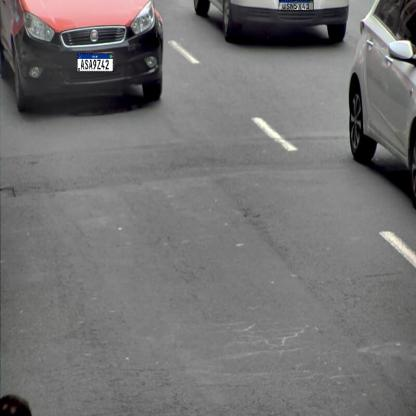PlacaM: (77, 53, 113, 72), (278, 0, 313, 10)
